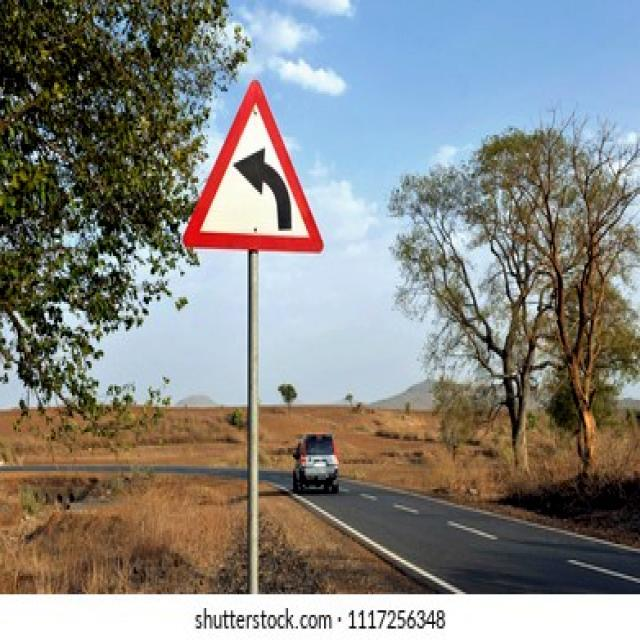Traffic sign: (176, 71, 334, 262)
